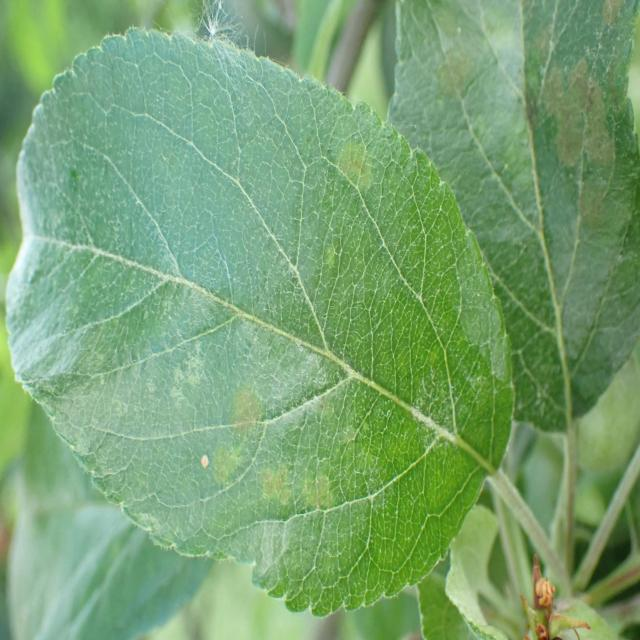scab: (34, 70, 487, 615), (442, 0, 640, 441)
